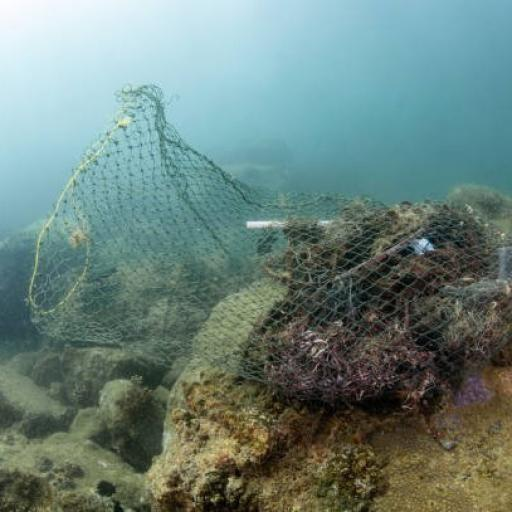net: (29, 77, 506, 410)
